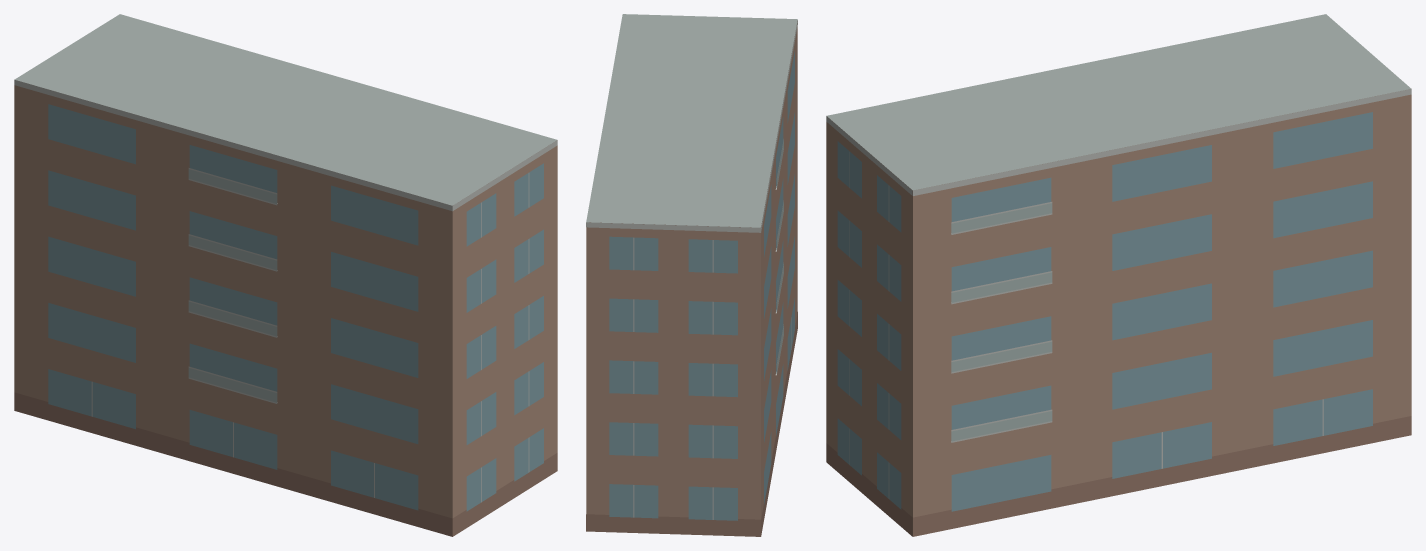
Rendered from survey-upis-32696931.glb.
3 renders of one model, left to right at view 1: azimuth 30°, elevation 25°; view 2: azimuth 150°, elevation 25°; view 3: azimuth 270°, elevation 25°, orthographic. The views are drawn at different scales.
Parts seen in each view (by area): view 1: survey-upis-32696931.tmp; view 2: survey-upis-32696931.tmp; view 3: survey-upis-32696931.tmp.
Part boxes in pixels (x1,y1,x2,y2): survey-upis-32696931.tmp: (14, 14, 557, 536); survey-upis-32696931.tmp: (586, 14, 797, 536); survey-upis-32696931.tmp: (826, 14, 1411, 536).
Size of the model in its own units: 16.13 by 14.75 by 22.59.
